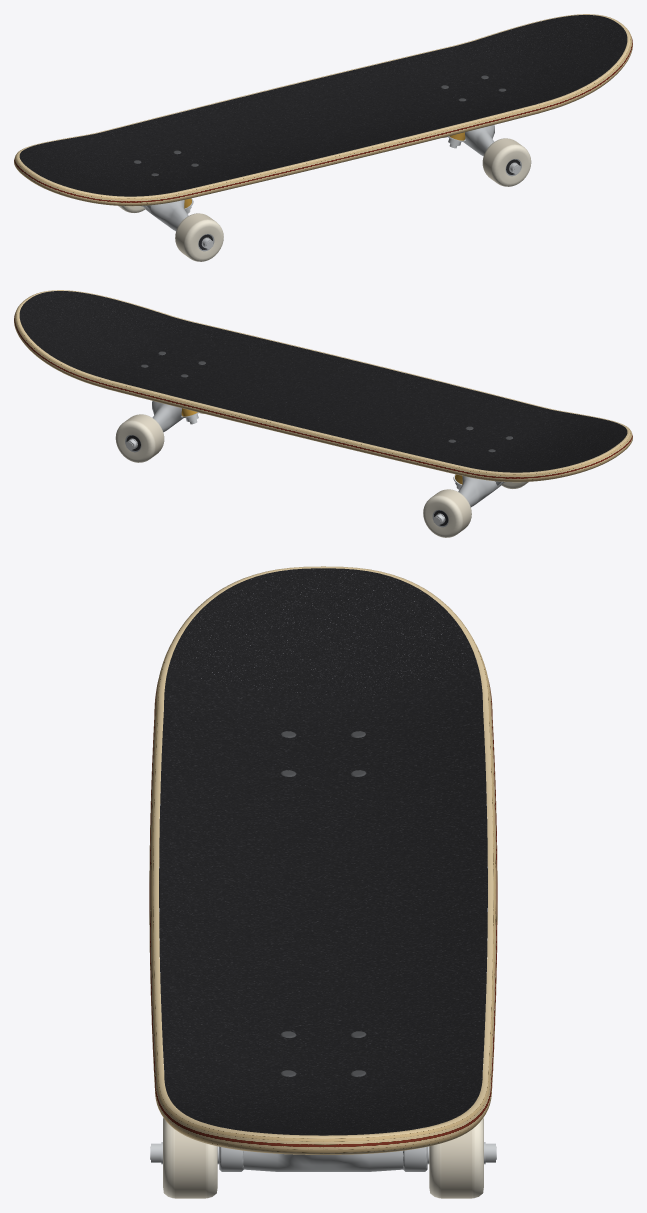
Rendered from board.glb.
3 renders of one model, top to bottom at view 1: azimuth 30°, elevation 25°; view 2: azimuth 150°, elevation 25°; view 3: azimuth 270°, elevation 25°, orthographic. The views are drawn at different scales.
Parts seen in each view (by area): view 1: Deck_Grip, Deck_Wood, Wheels, Truck_Aluminium, Truck_Steel; view 2: Deck_Grip, Deck_Wood, Wheels, Truck_Aluminium, Truck_Steel; view 3: Deck_Grip, Deck_Wood, Wheels, Truck_Aluminium, Truck_Steel.
Part boxes in pixels (x1,y1,x2,y2): Deck_Grip: (19, 15, 627, 196); Deck_Wood: (14, 14, 632, 206); Wheels: (118, 137, 531, 261); Truck_Aluminium: (141, 125, 494, 231); Truck_Steel: (134, 75, 520, 249); Deck_Grip: (19, 291, 627, 472); Deck_Wood: (14, 290, 632, 482); Wheels: (115, 413, 528, 537); Truck_Aluminium: (152, 401, 505, 507); Truck_Steel: (126, 351, 512, 525); Deck_Grip: (159, 568, 487, 1135); Deck_Wood: (149, 566, 497, 1154); Wheels: (163, 1117, 483, 1198); Truck_Aluminium: (219, 1134, 427, 1171); Truck_Steel: (150, 731, 496, 1164).
Size of the model in its own units: 0.8079 by 0.1294 by 0.204.
7 materials, 4 textured.
